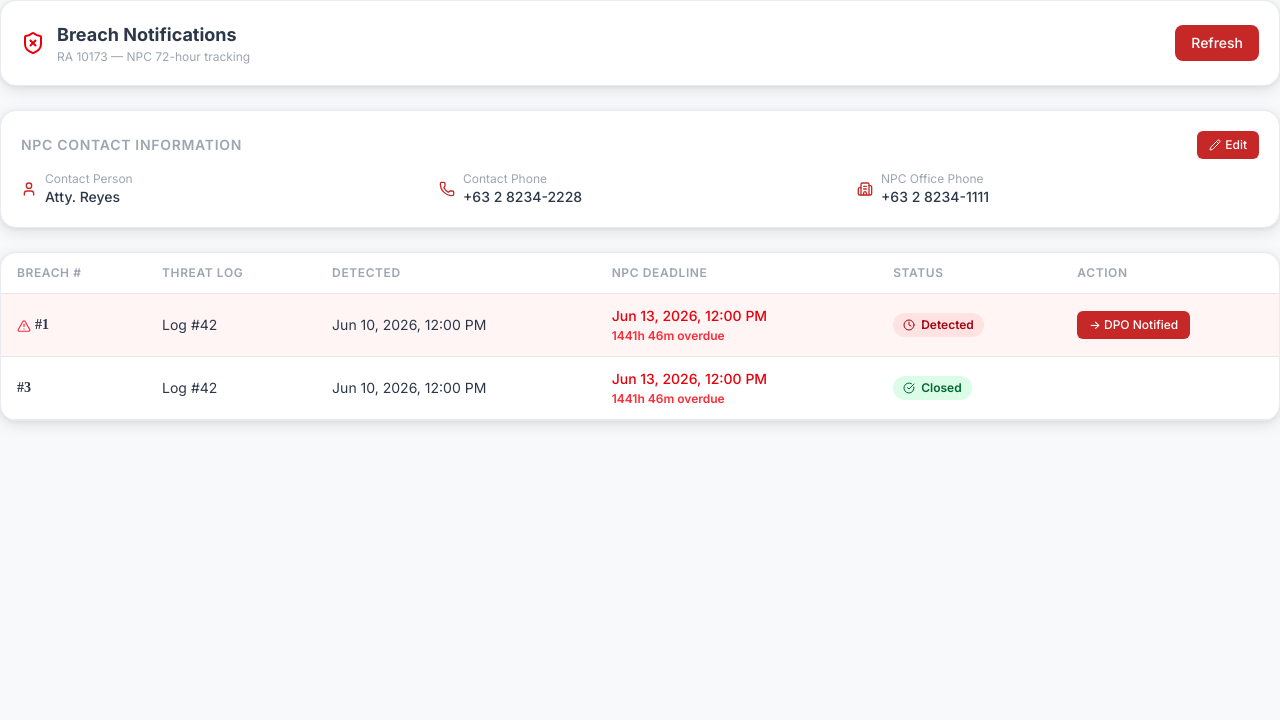
it: Breach Notifications Page › opens confirmation modal when status advance button is clicked
Click the button with test id "advance-breach-1".
click(1134, 325)  # box [1077, 311, 1190, 339]
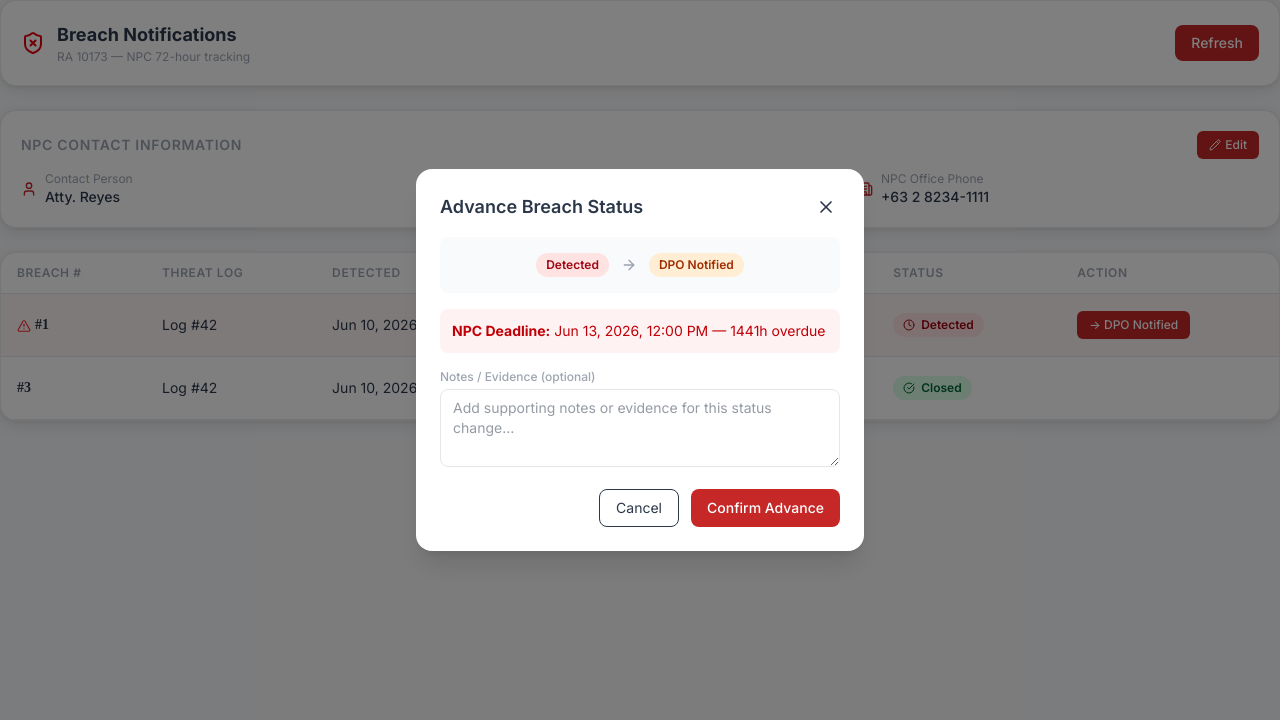
Expected: the button with test id "advance-modal-confirm" is shown, [691, 489, 840, 527]
